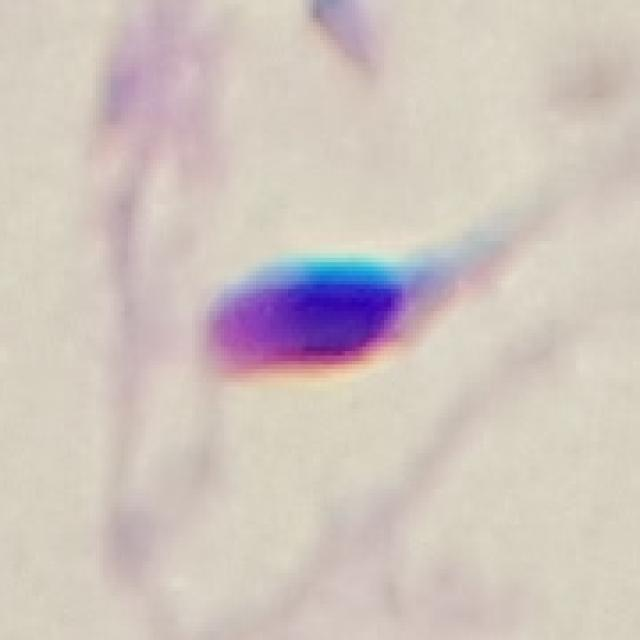abnormal sperm: (199, 228, 511, 378)
